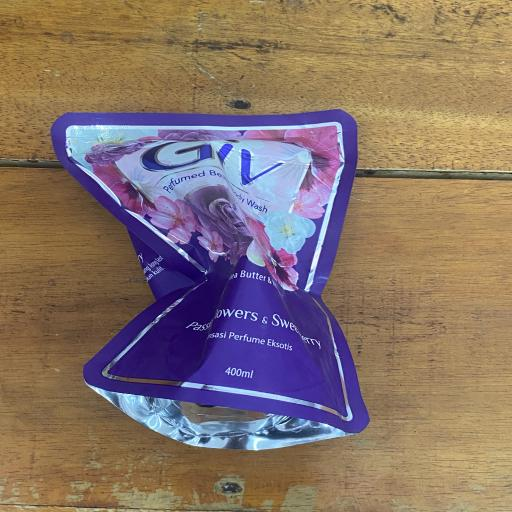GIV Bodywash Flowers SweetBerries: (47, 106, 377, 455)
